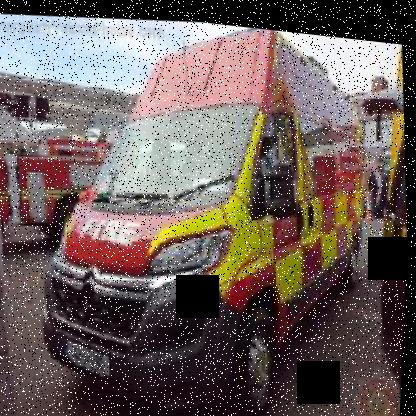emergency: (30, 35, 408, 402)
